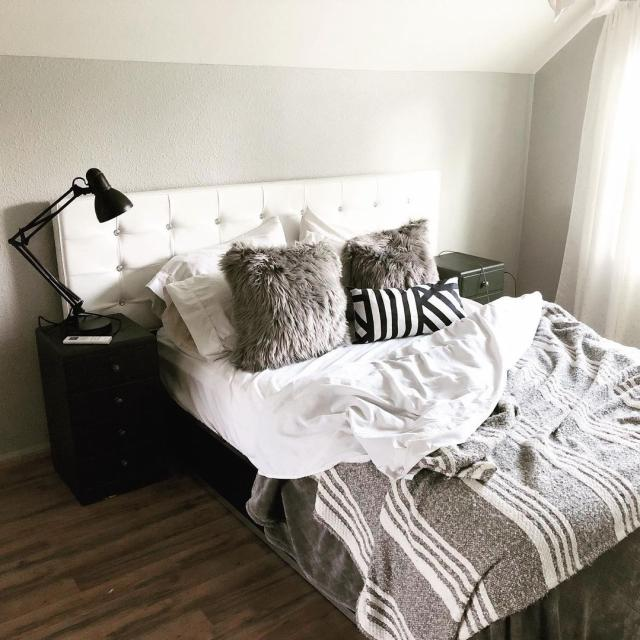bed: (139, 199, 640, 640)
